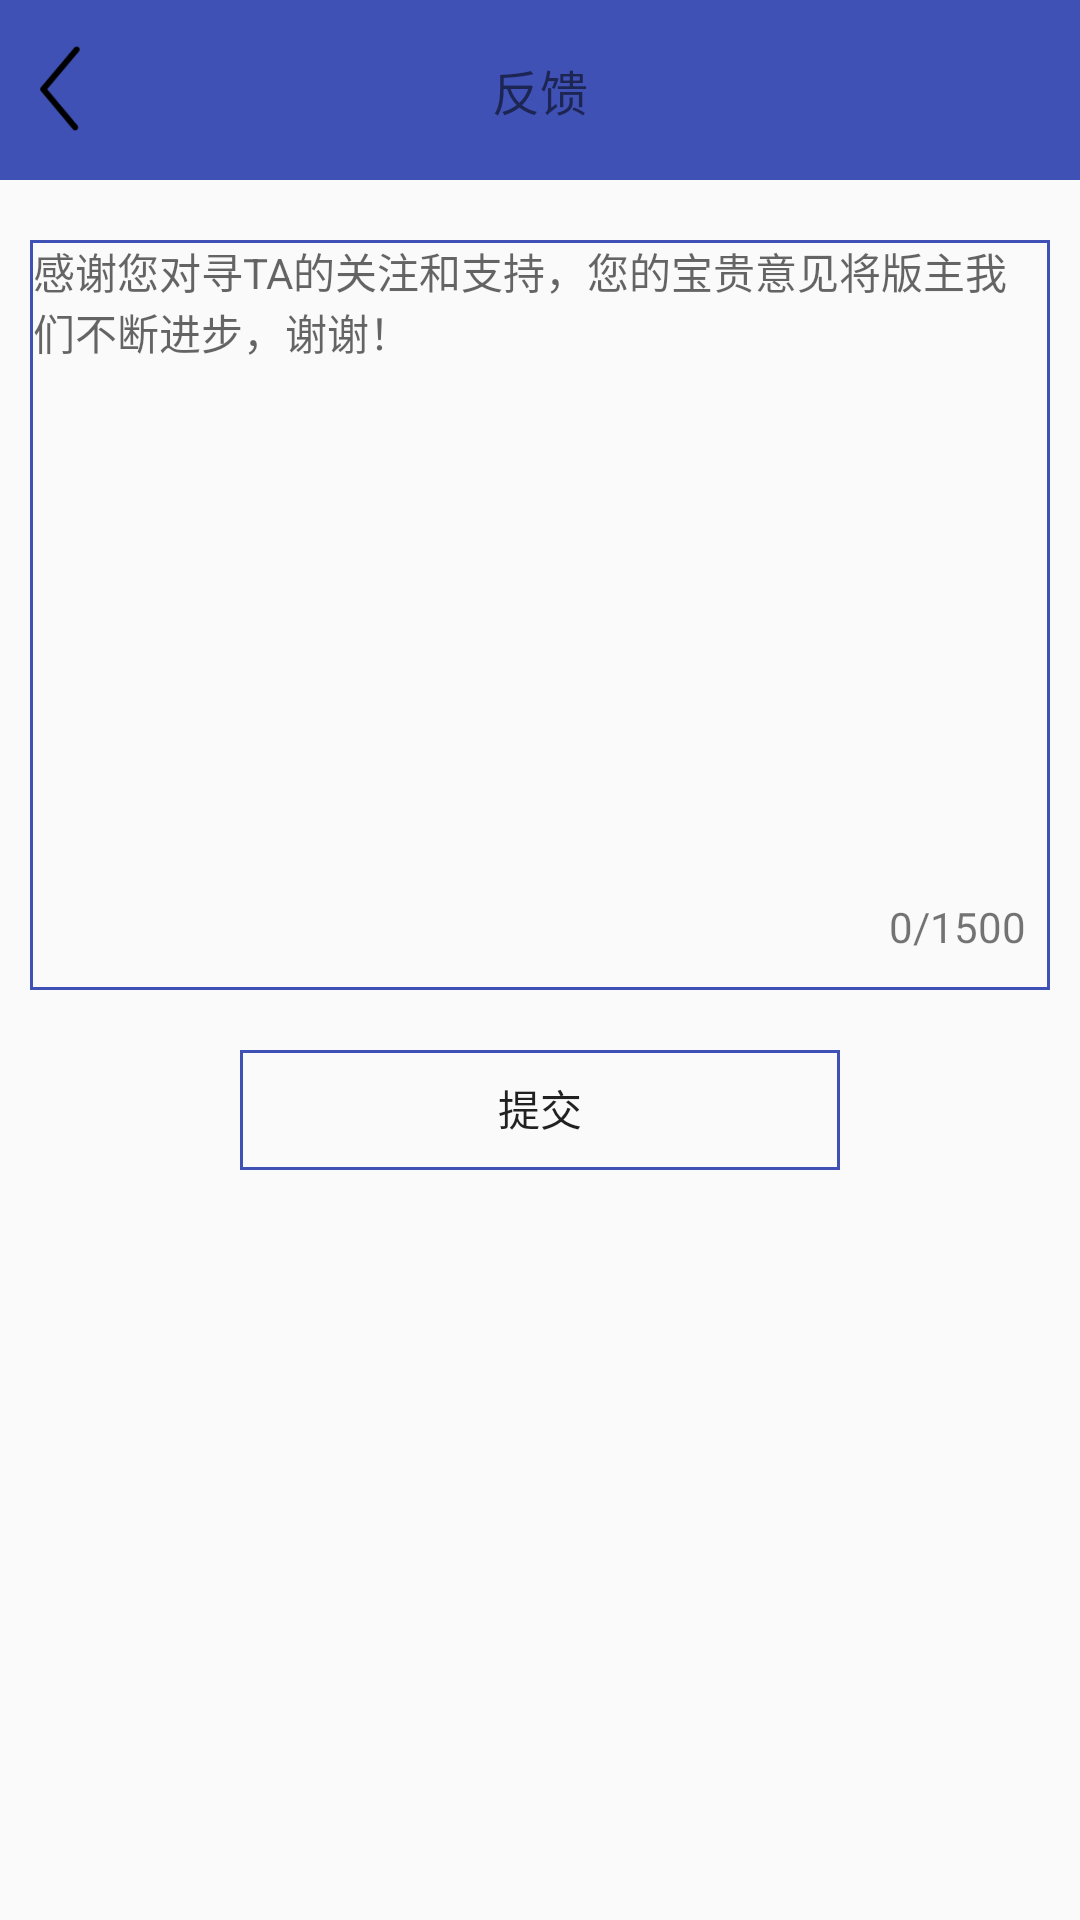

Where to tap for icons on this 1080w x 1920h app screen, as (x=x, y=y):
arrow left: (x=60, y=88)
